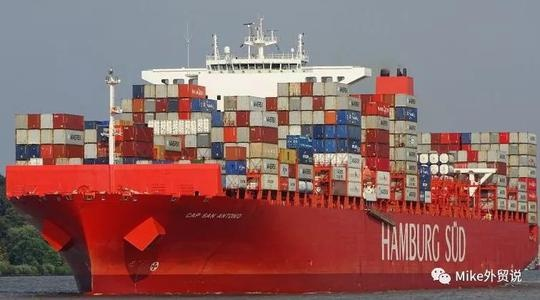Cargoship: (11, 11, 540, 293)
